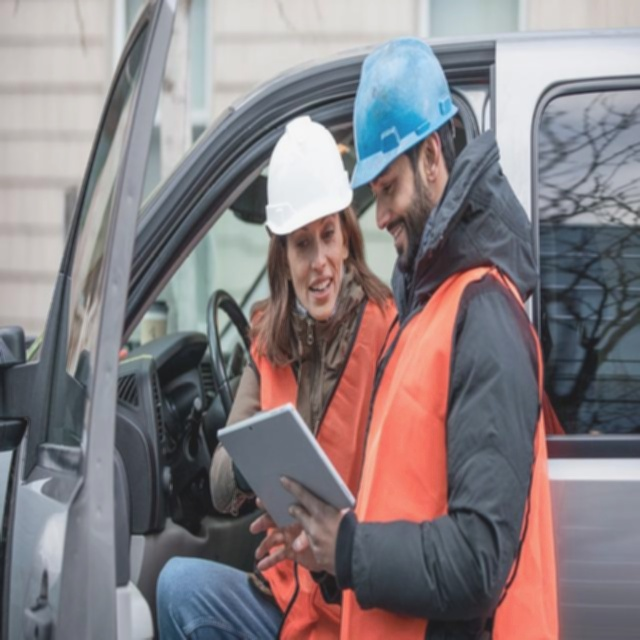Con_Casco: (267, 109, 348, 315)
